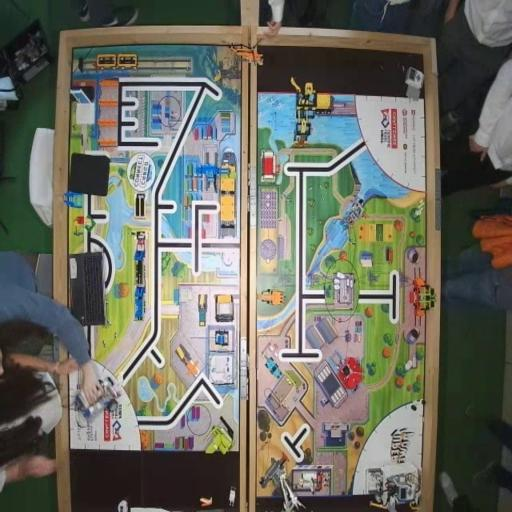lego_robot: (364, 467, 422, 512), (74, 376, 122, 424)
